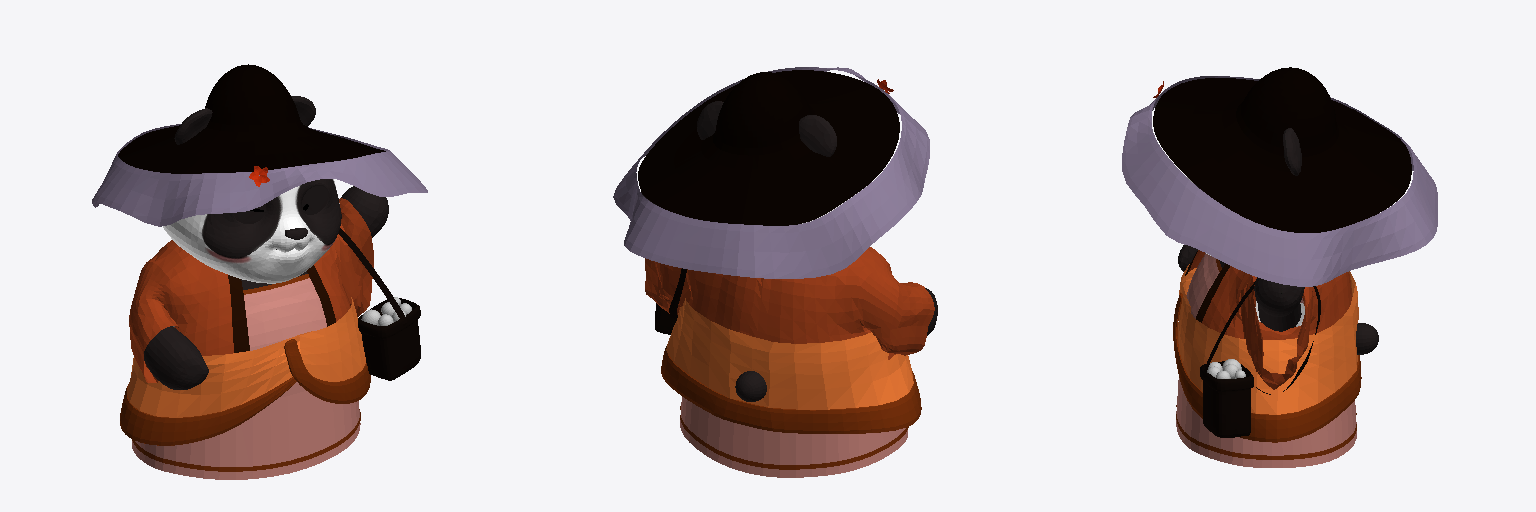
The picture shows the model from 3 angles: view 1: azimuth 30°, elevation 25°; view 2: azimuth 150°, elevation 25°; view 3: azimuth 270°, elevation 25°; orthographic projection.
Parts seen in each view (by area): view 1: panda_body007.002, 球体, 009, panda_body007, 球体.001, 平面, 平面.001, 立方体, 011, 009.002, panda_body007.003, panda_body007.005 (+1 smaller); view 2: 球体, 球体.001, 009, 平面, panda_body007.002, 平面.001, panda_body007, panda_body007.005; view 3: 球体, 球体.001, 平面, 009, panda_body007.002, 平面.001, 立方体, panda_body007.003, panda_body007, panda_body007.005, 立方体.001.
Boxes of the visible parts, x1,y1,x2,y2 form: panda_body007.002: [132, 278, 360, 479]; 球体: [118, 64, 385, 173]; 009: [129, 198, 373, 382]; panda_body007: [163, 96, 341, 283]; 球体.001: [92, 124, 427, 226]; 平面: [127, 297, 365, 417]; 平面.001: [120, 339, 370, 445]; 立方体: [358, 298, 420, 380]; 011: [144, 326, 208, 389]; 009.002: [228, 265, 335, 352]; panda_body007.003: [341, 186, 388, 237]; panda_body007.005: [132, 409, 360, 471]; 球体: [638, 70, 899, 225]; 球体.001: [613, 67, 929, 278]; 009: [645, 247, 934, 359]; 平面: [666, 298, 913, 409]; panda_body007.002: [680, 397, 907, 477]; 平面.001: [661, 344, 921, 433]; panda_body007: [697, 101, 866, 401]; panda_body007.005: [680, 406, 908, 469]; 球体: [1153, 67, 1411, 232]; 球体.001: [1122, 76, 1437, 286]; 平面: [1178, 264, 1358, 414]; 009: [1189, 250, 1352, 389]; panda_body007.002: [1176, 253, 1356, 467]; 平面.001: [1173, 293, 1361, 442]; 立方体: [1200, 361, 1253, 437]; panda_body007.003: [1254, 277, 1304, 331]; panda_body007: [1187, 128, 1378, 354]; panda_body007.005: [1176, 405, 1356, 459]; 立方体.001: [1203, 281, 1320, 394].
Size of the model in its own units: 7.78 by 9.53 by 7.38.
Materials: 12 (1 with a texture image).